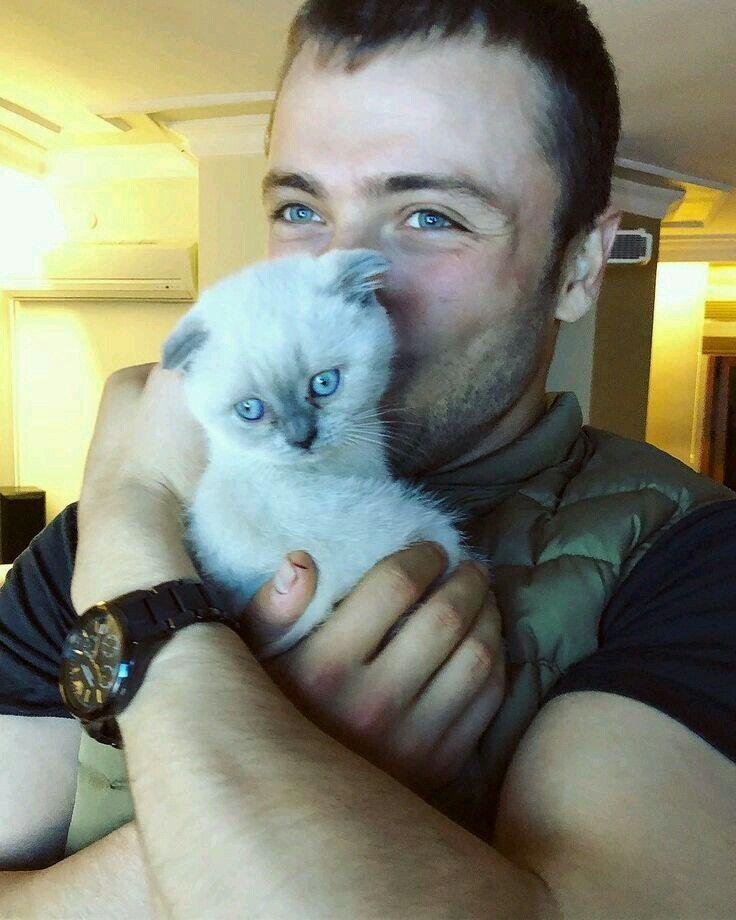kedo: (163, 245, 389, 470)
